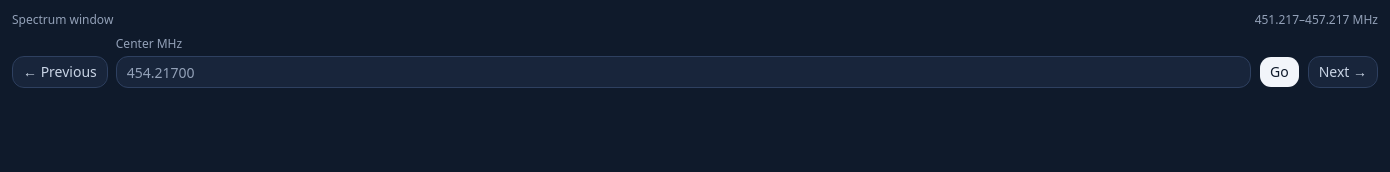
Test: reports a rejected move and keeps the actual window
Click the button "Next →": click(1343, 72) top-left (1308, 56), bottom-right (1378, 88)
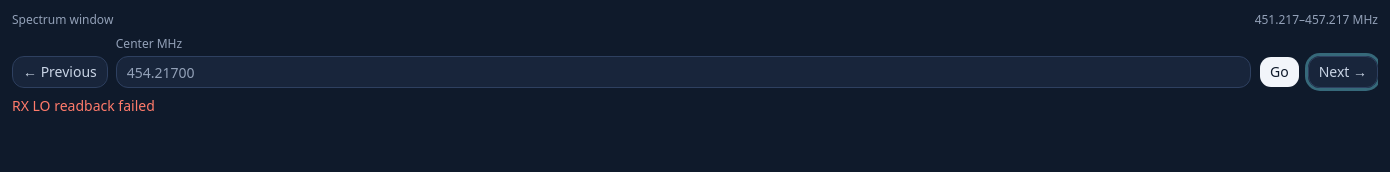
Now the message reads "RX LO readback failed", box top-left (12, 96), bottom-right (155, 115)
